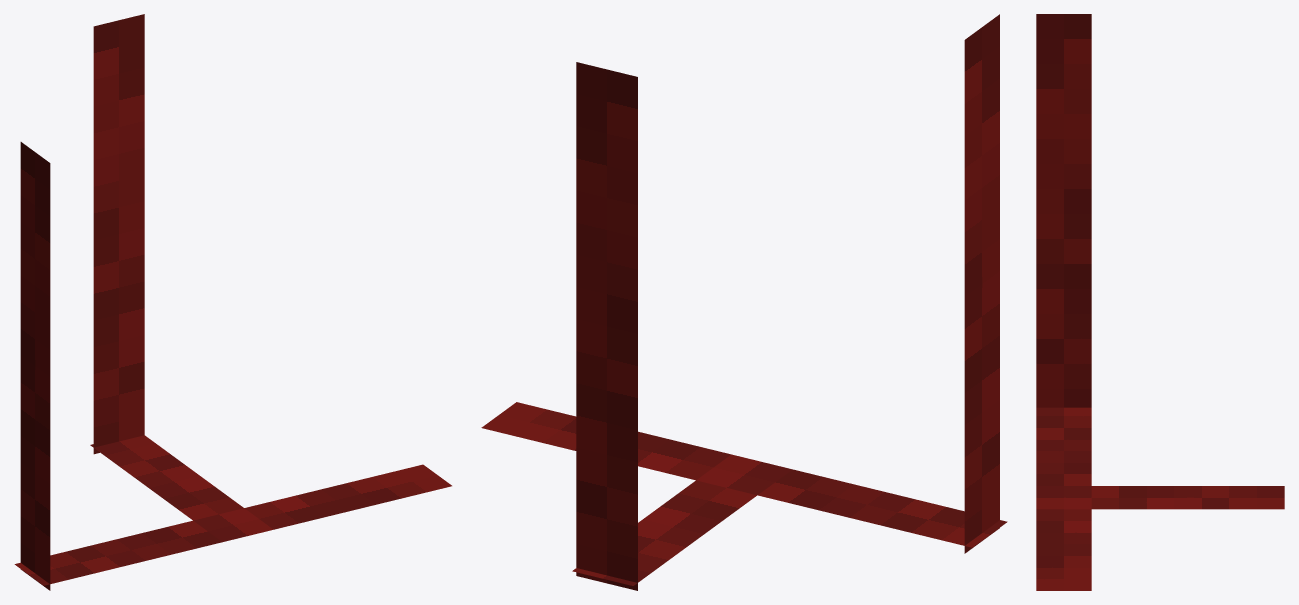
The model's file is dust_1202.gltf.
The picture shows the model from 3 angles, left to right: view 1: azimuth 30°, elevation 25°; view 2: azimuth 150°, elevation 25°; view 3: azimuth 270°, elevation 25°; orthographic projection. The views are drawn at different scales.
Parts seen in each view (by area): view 1: dust_1202; view 2: dust_1202; view 3: dust_1202.
Boxes of the visible parts, x1,y1,x2,y2 form: dust_1202: (14, 14, 451, 590); dust_1202: (481, 14, 1007, 590); dust_1202: (1036, 14, 1284, 590).
Size of the model in its own units: 1 by 1 by 0.5625.
1 material, 1 textured.
